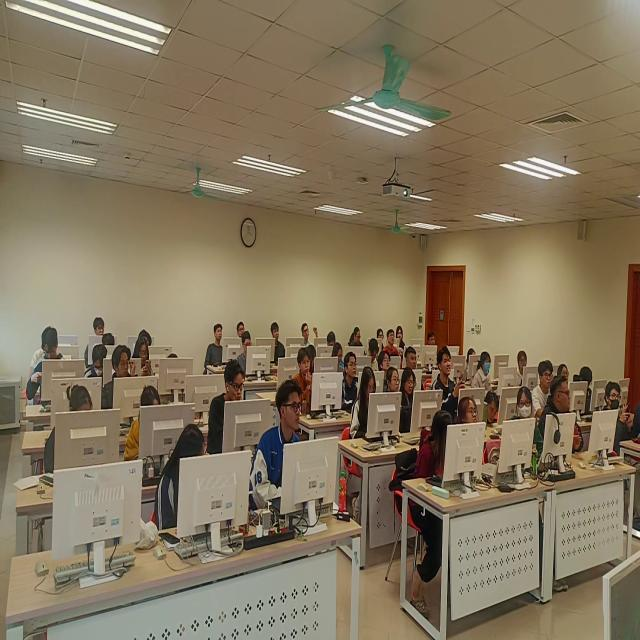raise_hand: (297, 317, 322, 348)
raise_head: (251, 379, 306, 532), (205, 360, 252, 460), (594, 377, 635, 455), (432, 347, 467, 417), (103, 344, 137, 416), (455, 393, 483, 476), (289, 350, 321, 413), (531, 361, 556, 422), (340, 353, 363, 410), (206, 322, 227, 376), (268, 320, 290, 366), (376, 344, 391, 377), (90, 310, 106, 340), (137, 323, 155, 349), (385, 329, 400, 360), (404, 343, 419, 374), (425, 327, 440, 358), (516, 348, 528, 385), (560, 361, 573, 387), (236, 318, 247, 347), (375, 325, 387, 349), (397, 318, 405, 352)
using_computer: (151, 410, 207, 544), (41, 379, 98, 484), (26, 324, 68, 413), (125, 384, 164, 474), (349, 364, 383, 463), (82, 342, 111, 402), (402, 363, 426, 430), (472, 348, 498, 397), (382, 364, 402, 413), (483, 391, 505, 430), (348, 324, 366, 356), (95, 330, 117, 353), (166, 349, 181, 379), (332, 337, 345, 369), (465, 344, 480, 371), (324, 330, 337, 353)
using_phone: (131, 336, 153, 384)
